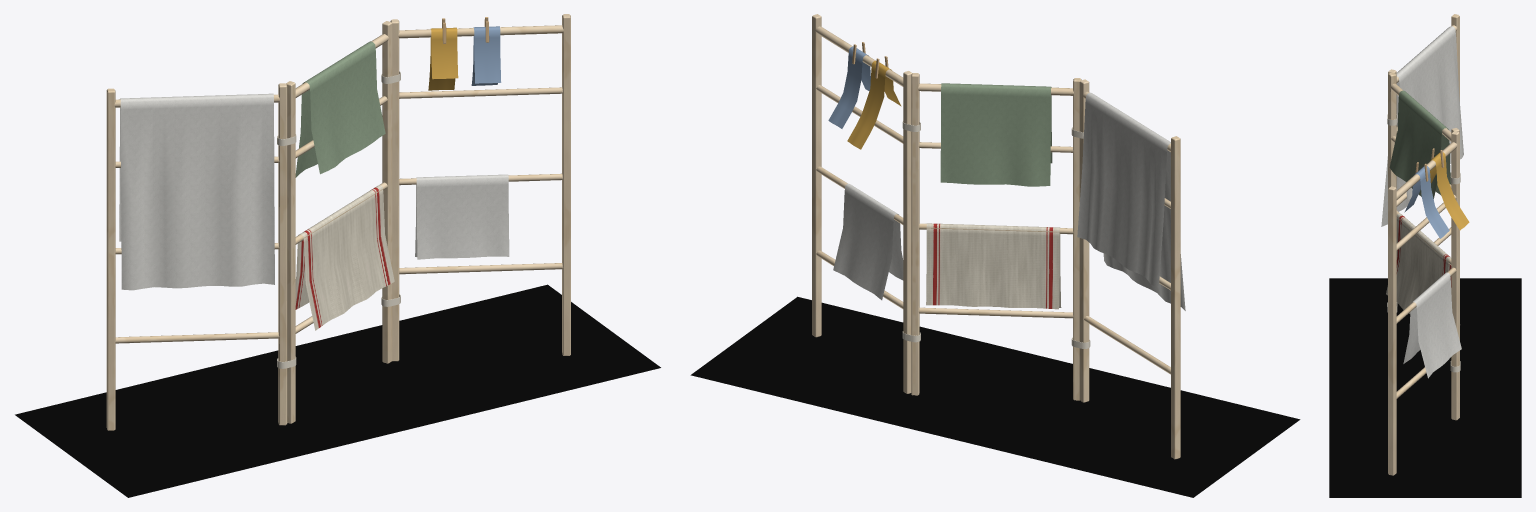
File: drying_rack.glb
3 renders of one model, left to right at view 1: azimuth 30°, elevation 25°; view 2: azimuth 150°, elevation 25°; view 3: azimuth 270°, elevation 25°, orthographic. The views are drawn at different scales.
Visible parts, largest first — view 1: drying_rack_LOD0, drying_rack_Shadow; view 2: drying_rack_LOD0, drying_rack_Shadow; view 3: drying_rack_Shadow, drying_rack_LOD0.
Part boxes in pixels (bbox=[...]): drying_rack_LOD0: bbox=[106, 14, 570, 430]; drying_rack_Shadow: bbox=[15, 284, 660, 497]; drying_rack_LOD0: bbox=[812, 14, 1185, 459]; drying_rack_Shadow: bbox=[690, 296, 1300, 497]; drying_rack_Shadow: bbox=[1329, 278, 1521, 497]; drying_rack_LOD0: bbox=[1381, 14, 1469, 475].
Size of what is drawn, in the model's own units: 2 by 1.22 by 0.74.
Materials: 6 (6 with a texture image).
